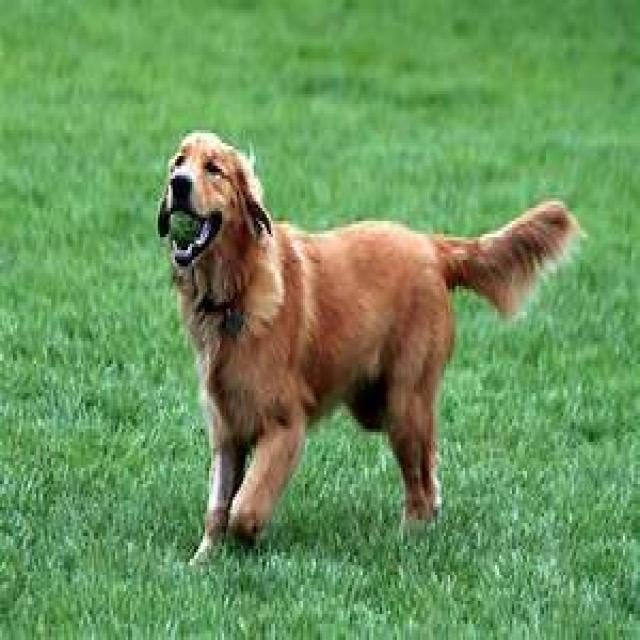dog: (156, 130, 585, 565)
